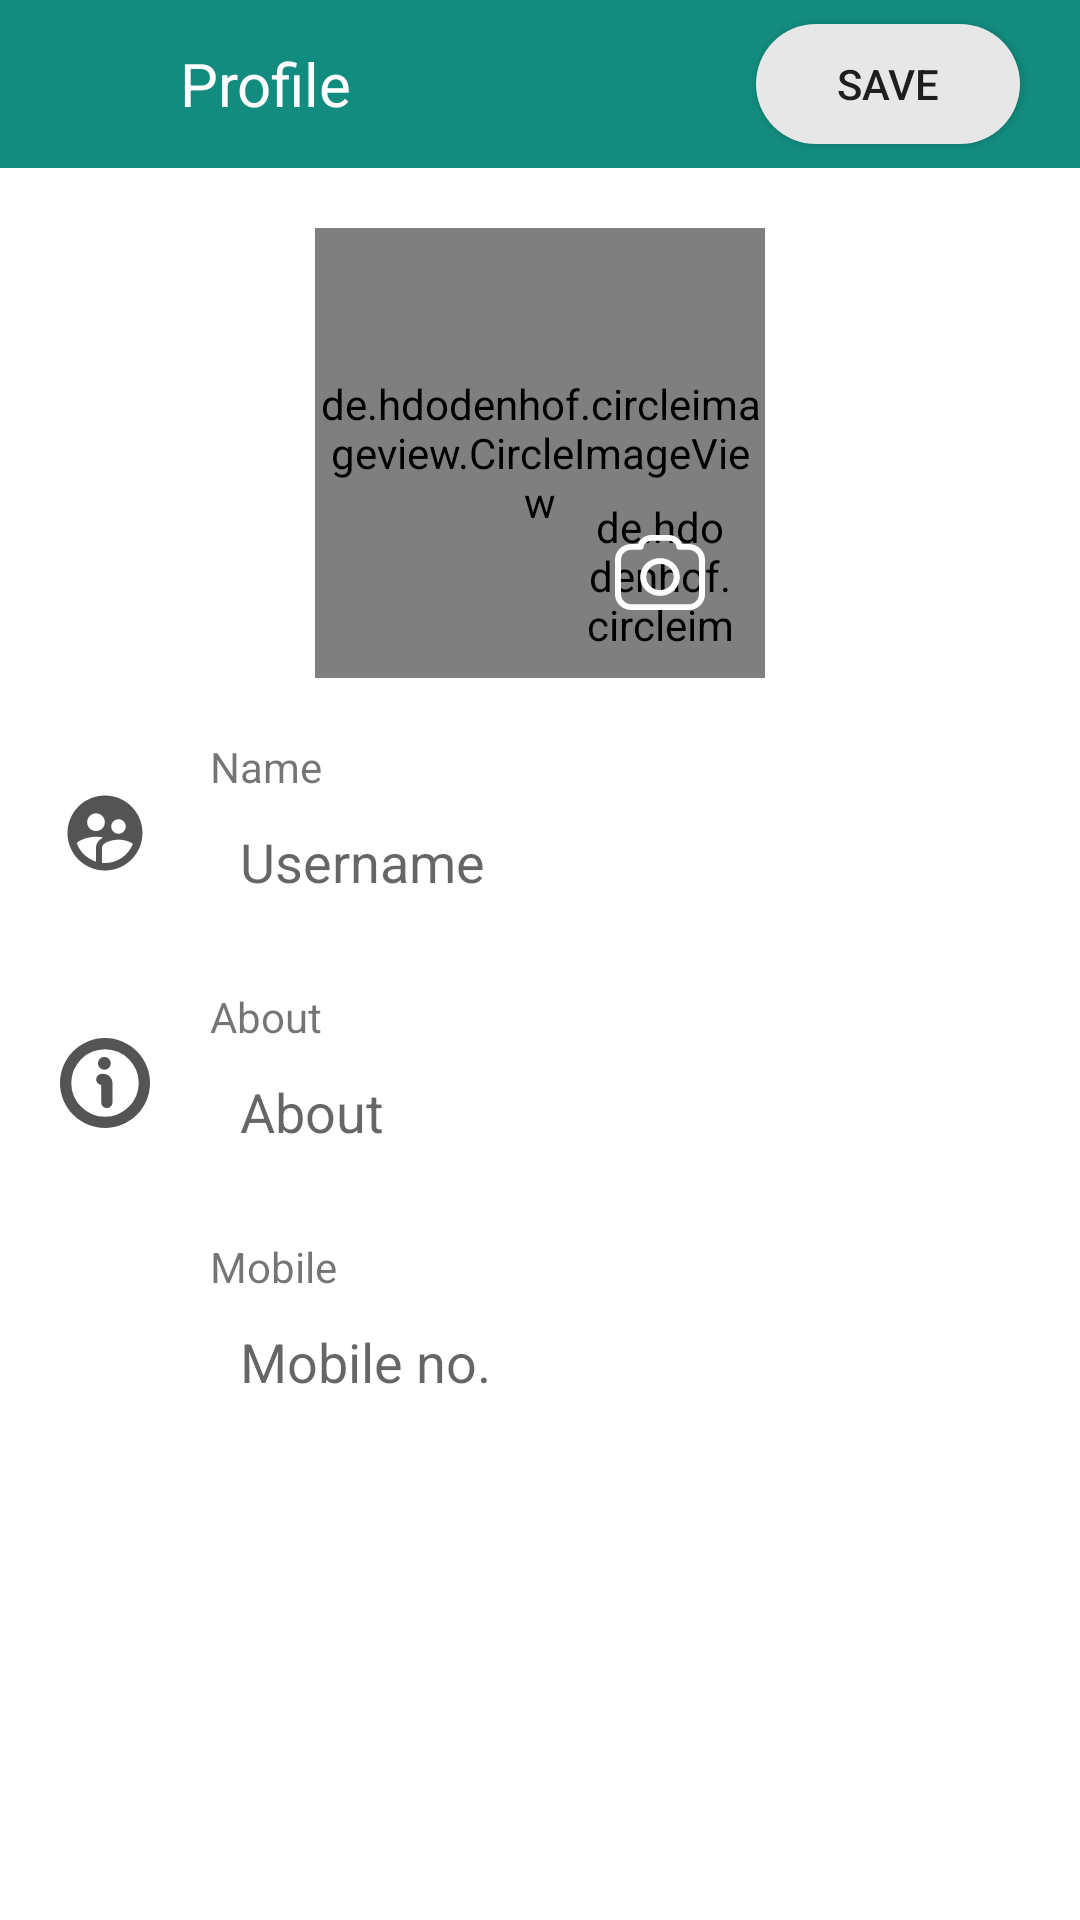

Named icons in this screenshot (1080w x 1920h) and their bounding boxes, (x1=x1, y1=y1, x2=x2, y2=y2):
info: (x1=60, y1=1038, x2=150, y2=1128)
